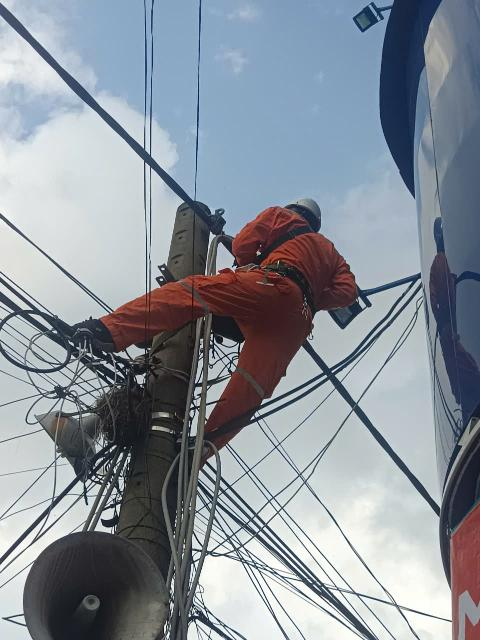harness: (259, 254, 328, 320)
helmet: (280, 189, 331, 236)
shoes: (70, 312, 130, 356)
